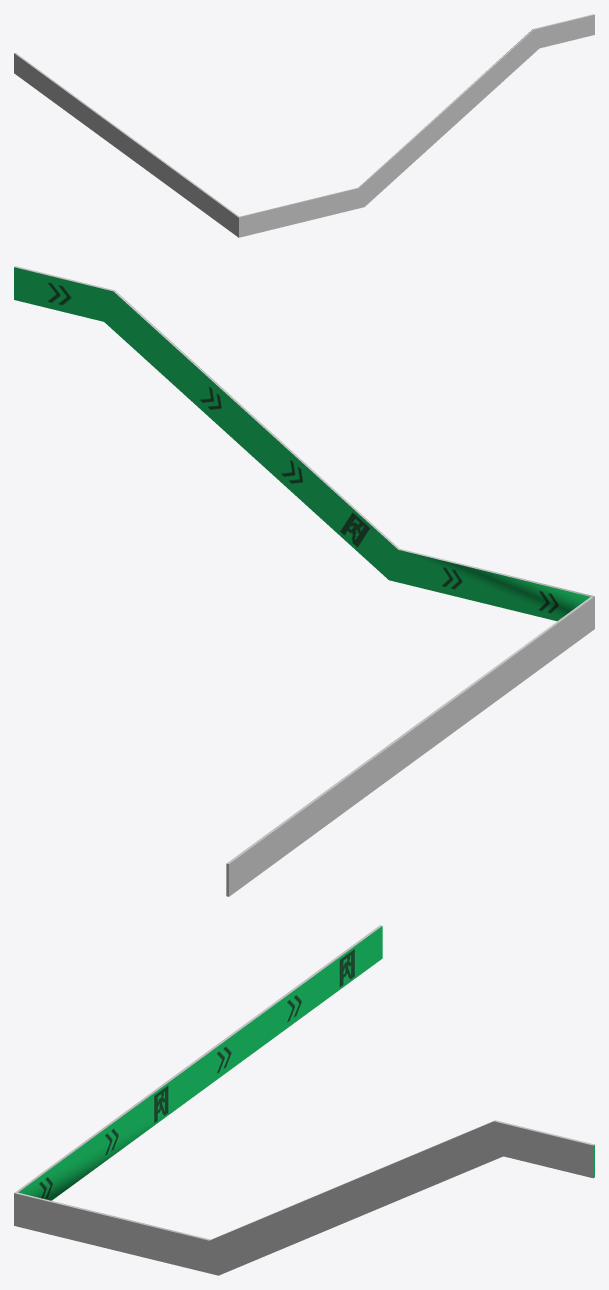
The model's file is Emergency_Exit_Full.fbx.
The picture shows the model from 3 angles, top to bottom: view 1: azimuth 30°, elevation 25°; view 2: azimuth 150°, elevation 25°; view 3: azimuth 330°, elevation 25°; orthographic projection. The views are drawn at different scales.
Visible parts, largest first — view 1: Emergency_Exit__1__1; view 2: Emergency_Exit__1__1; view 3: Emergency_Exit__1__1.
Boxes of the visible parts, left/top/right/bottom form: Emergency_Exit__1__1: left=14, top=14, right=594, bottom=237; Emergency_Exit__1__1: left=14, top=266, right=594, bottom=896; Emergency_Exit__1__1: left=14, top=925, right=594, bottom=1275.
Bounding box in the file's own units: 444 × 162 × 486.
